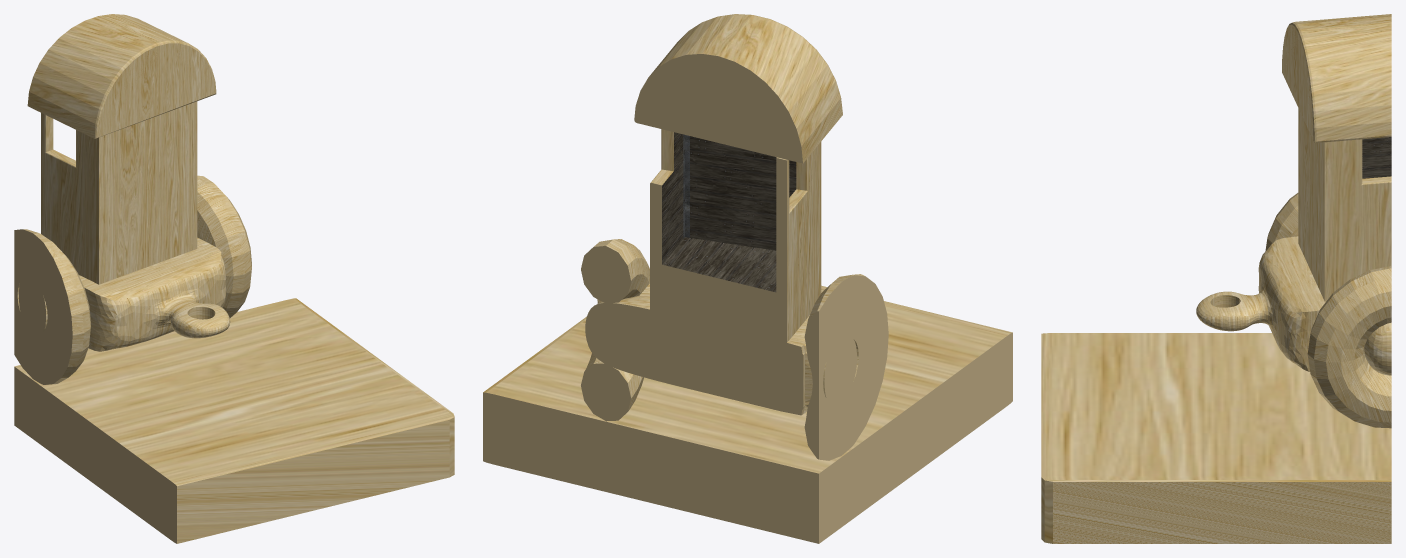
The model's file is 8_Holzbahn_Interior.fbx.
The picture shows the model from 3 angles, left to right: view 1: azimuth 30°, elevation 25°; view 2: azimuth 150°, elevation 25°; view 3: azimuth 270°, elevation 25°; orthographic projection. The views are drawn at different scales.
Visible parts, largest first — view 1: Cube.017, Cube.064, Cube.071, Cube.067, Cube.065, Cube.066; view 2: Cube.017, Cube.064, Cube.071, Cube.067, Cube.065, Cube.066; view 3: Cube.017, Cube.064, Cube.071, Cube.066, Cube.067, Cube.065.
Boxes of the visible parts, left/top/right/bottom form: Cube.017: left=14, top=298, right=454, bottom=543; Cube.064: left=41, top=101, right=197, bottom=284; Cube.071: left=27, top=14, right=216, bottom=138; Cube.067: left=19, top=237, right=230, bottom=351; Cube.065: left=14, top=229, right=90, bottom=384; Cube.066: left=197, top=175, right=251, bottom=318; Cube.017: left=483, top=285, right=1012, bottom=543; Cube.064: left=650, top=129, right=821, bottom=342; Cube.071: left=634, top=14, right=842, bottom=163; Cube.067: left=585, top=283, right=856, bottom=415; Cube.065: left=804, top=274, right=888, bottom=460; Cube.066: left=581, top=239, right=649, bottom=421; Cube.017: left=1041, top=333, right=1391, bottom=543; Cube.064: left=1298, top=108, right=1391, bottom=301; Cube.071: left=1282, top=14, right=1391, bottom=142; Cube.066: left=1307, top=266, right=1391, bottom=428; Cube.067: left=1196, top=236, right=1391, bottom=375; Cube.065: left=1265, top=193, right=1298, bottom=251.
Bounding box in the file's own units: 500 × 659 × 500.
